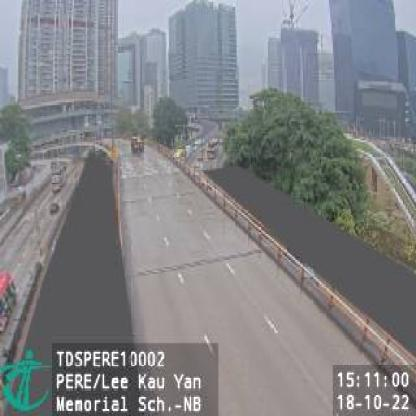Bus: (49, 159, 67, 194)
Car: (51, 201, 60, 213)
Truck: (129, 133, 146, 156)
